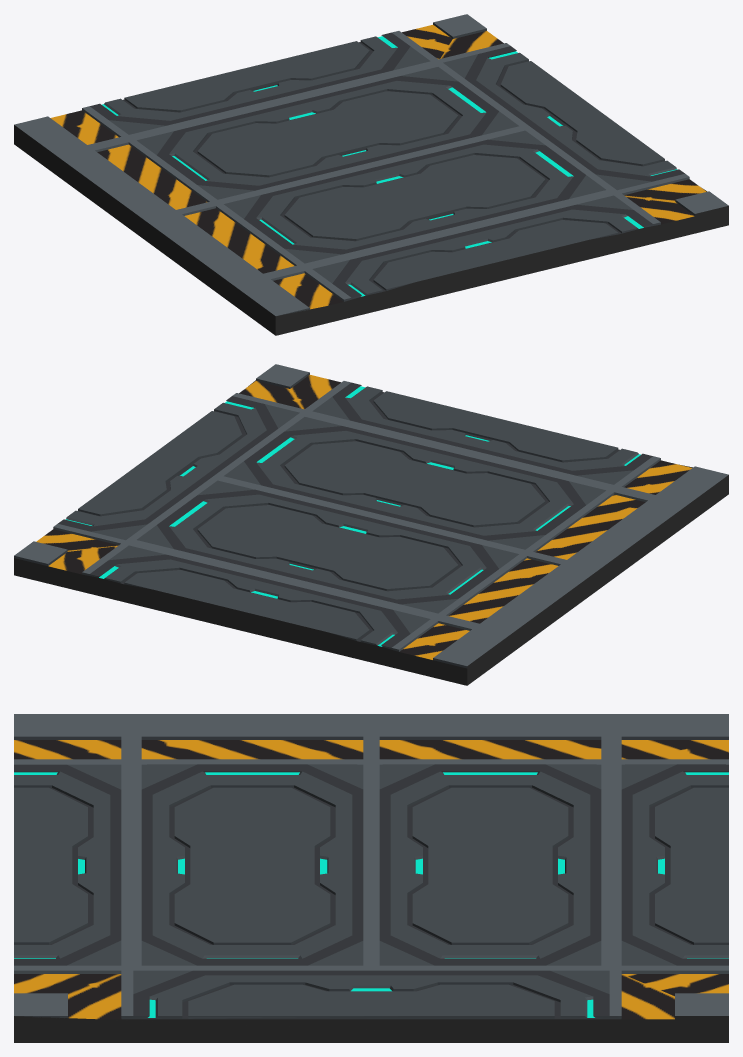
File: SM_Bld_Floor_03.fbx
3 views of the same model, one above another, from view 1: azimuth 30°, elevation 25°; view 2: azimuth 150°, elevation 25°; view 3: azimuth 270°, elevation 25° (orthographic). The views are drawn at different scales.
Visible parts, largest first — view 1: SM_Bld_Floor_03; view 2: SM_Bld_Floor_03; view 3: SM_Bld_Floor_03.
Boxes of the visible parts, <box> form: SM_Bld_Floor_03: <box>14,14,728,335</box>; SM_Bld_Floor_03: <box>14,364,728,685</box>; SM_Bld_Floor_03: <box>14,714,728,1042</box>.
Size of the model in its own units: 500 by 20.68 by 500.
Materials: 1 (1 with a texture image).
